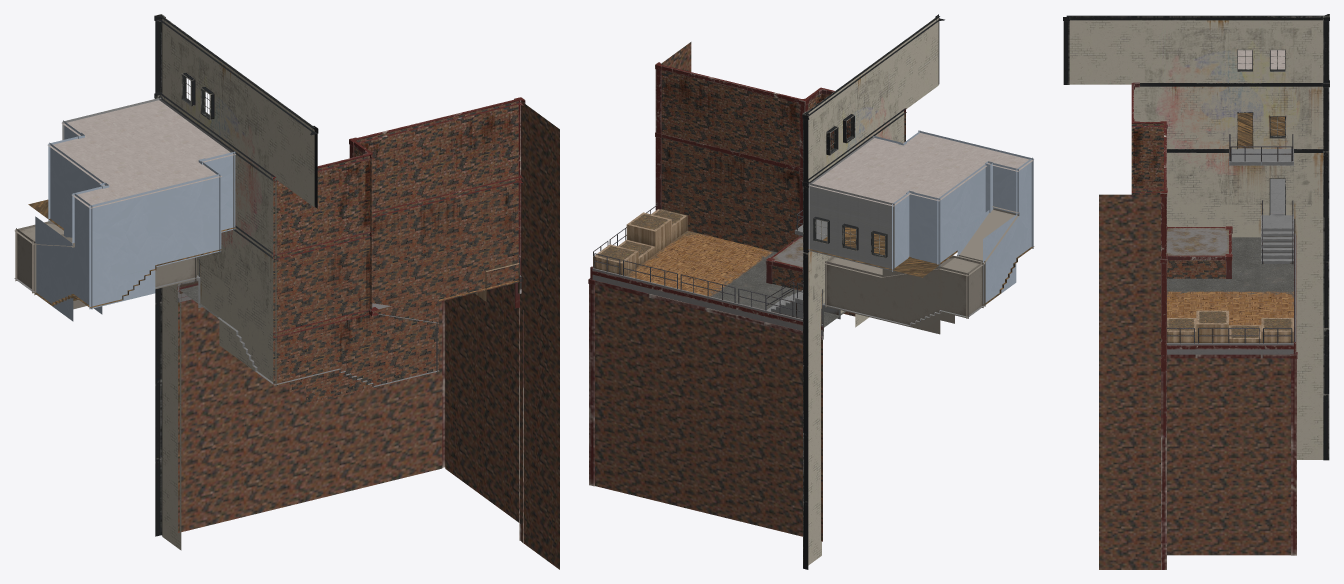
File: showcaseRooftopParkourWorld.7fae8abf.glb
3 views of the same model, side by side, from view 1: azimuth 30°, elevation 25°; view 2: azimuth 150°, elevation 25°; view 3: azimuth 270°, elevation 25° (orthographic). The views are drawn at different scales.
Parts seen in each view (by area): view 1: rooftopGarden1_set2, rooftopGarden1_set1; view 2: rooftopGarden1_set2, rooftopGarden1_set1; view 3: rooftopGarden1_set2, rooftopGarden1_set1.
Boxes of the visible parts, box(x1,y1,x2,y2) form: rooftopGarden1_set2: box(154, 92, 559, 569); rooftopGarden1_set1: box(14, 14, 318, 392); rooftopGarden1_set2: box(588, 42, 906, 569); rooftopGarden1_set1: box(742, 14, 1034, 335); rooftopGarden1_set2: box(1099, 80, 1329, 569); rooftopGarden1_set1: box(1063, 14, 1329, 291).
Bounding box in the file's own units: 26.22 × 30.14 × 16.44.
2 materials, 2 textured.
